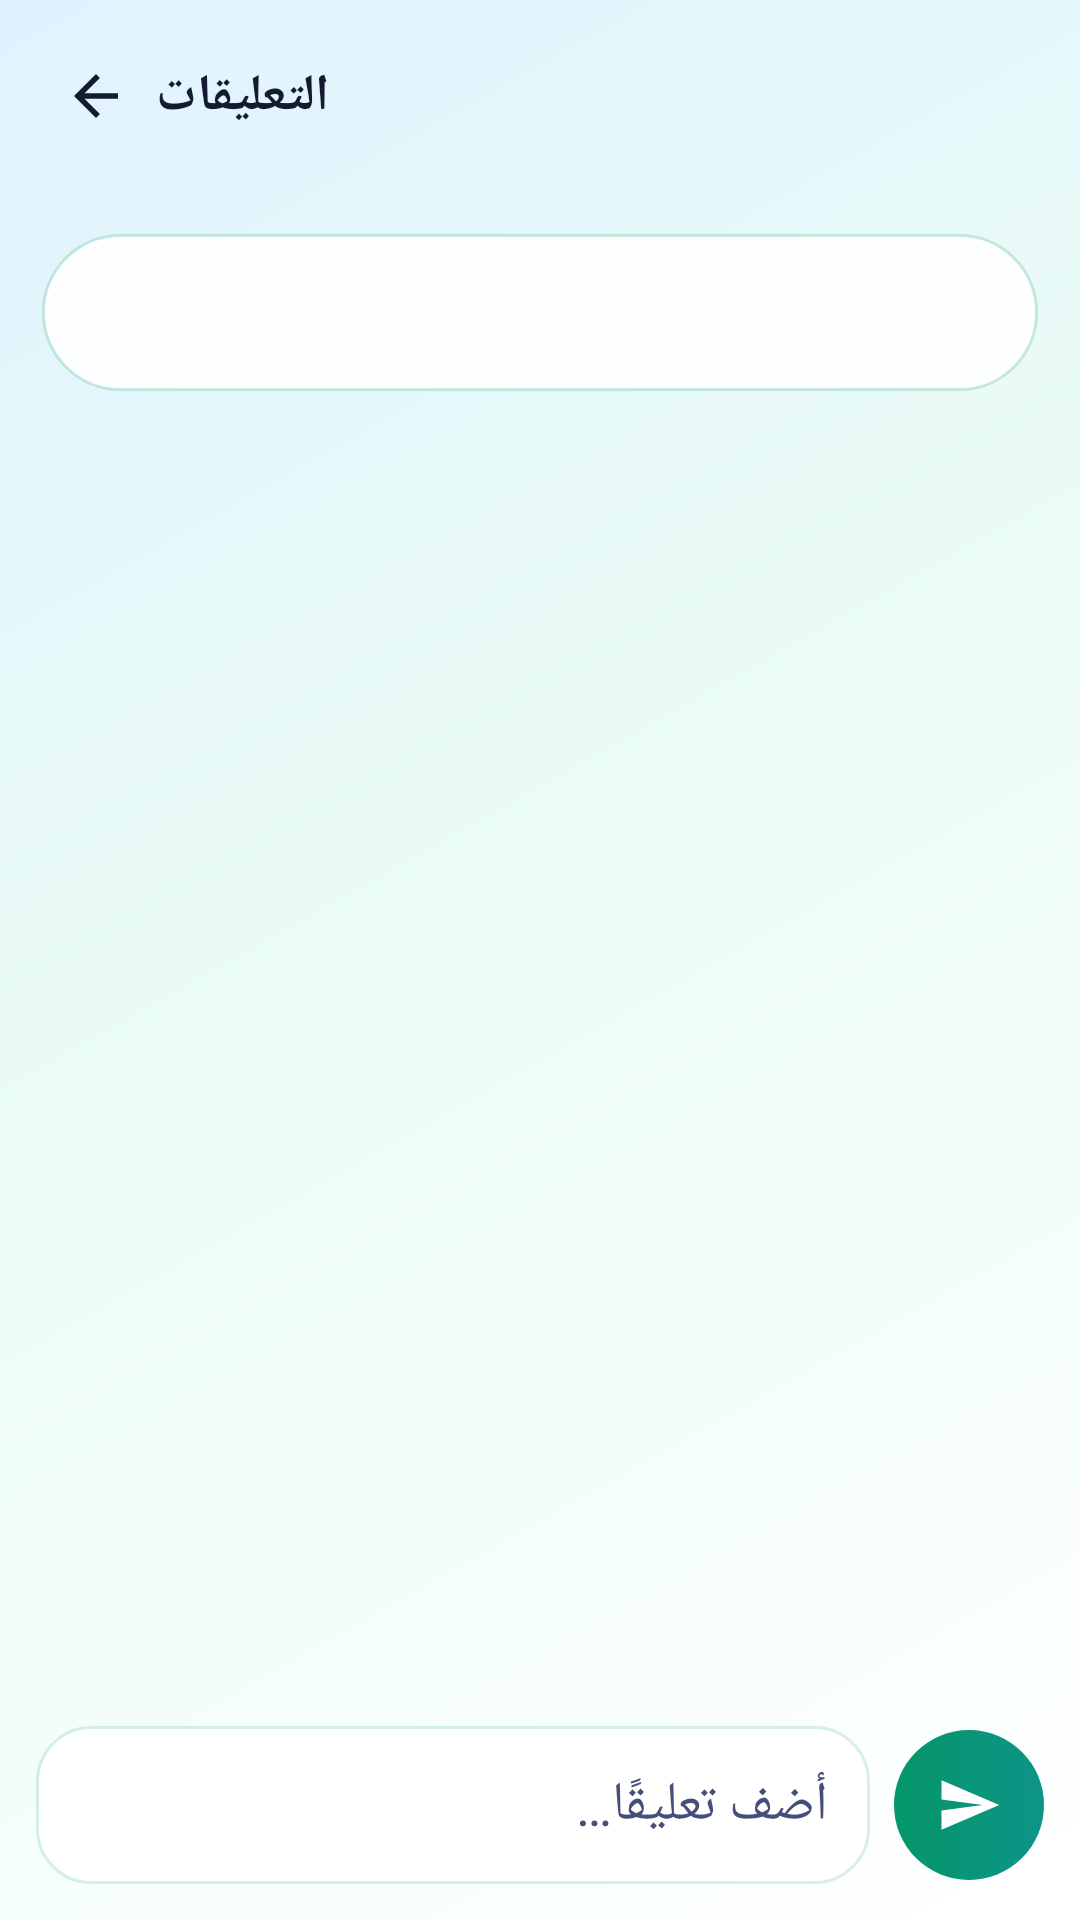

Icon bounding boxes for this 1080×1920 phone screenshot, format (x1, y1, x2, y2):
back: (74, 74, 118, 118)
send: (894, 1730, 1044, 1880)
